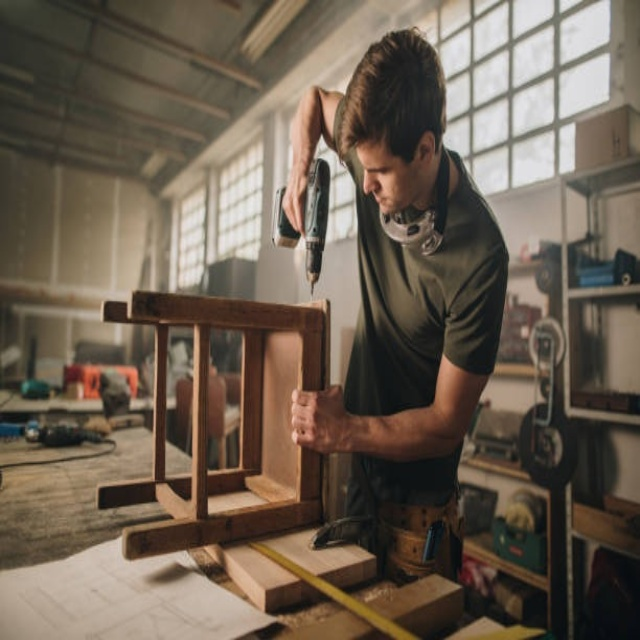Sin_gafas: (357, 144, 404, 190)
Sin_guantes: (290, 384, 345, 454), (280, 167, 313, 240)
Sin_mascara: (366, 180, 398, 218)
